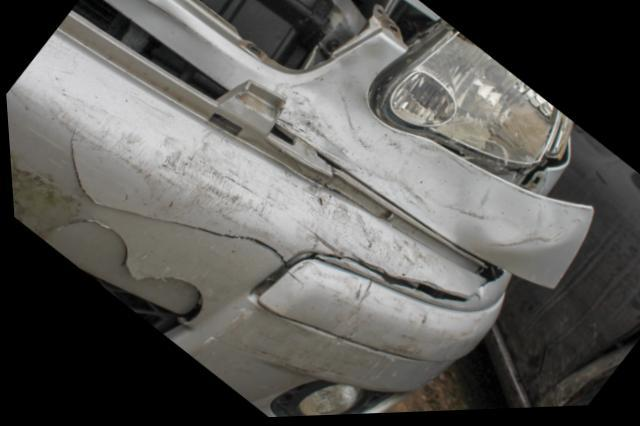crack: (66, 121, 282, 268), (52, 219, 200, 325), (314, 255, 500, 307)
dent: (271, 100, 573, 252)
dislocated part: (98, 0, 590, 302)
lamp broken: (374, 22, 573, 174)
scratch: (42, 90, 428, 272), (256, 269, 451, 388)
